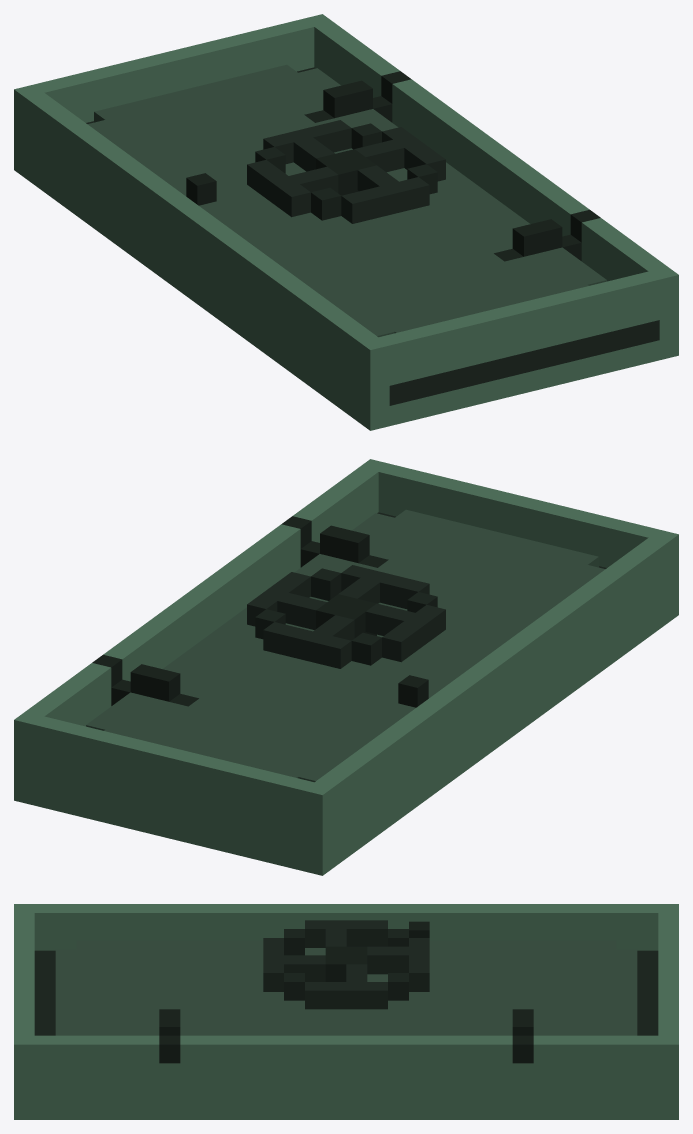
File: door_4.obj
3 views of the same model, one above another, from view 1: azimuth 30°, elevation 25°; view 2: azimuth 150°, elevation 25°; view 3: azimuth 270°, elevation 25° (orthographic). The views are drawn at different scales.
Size of the model in its own units: 16 by 5 by 32.
Materials: 1 (1 with a texture image).
